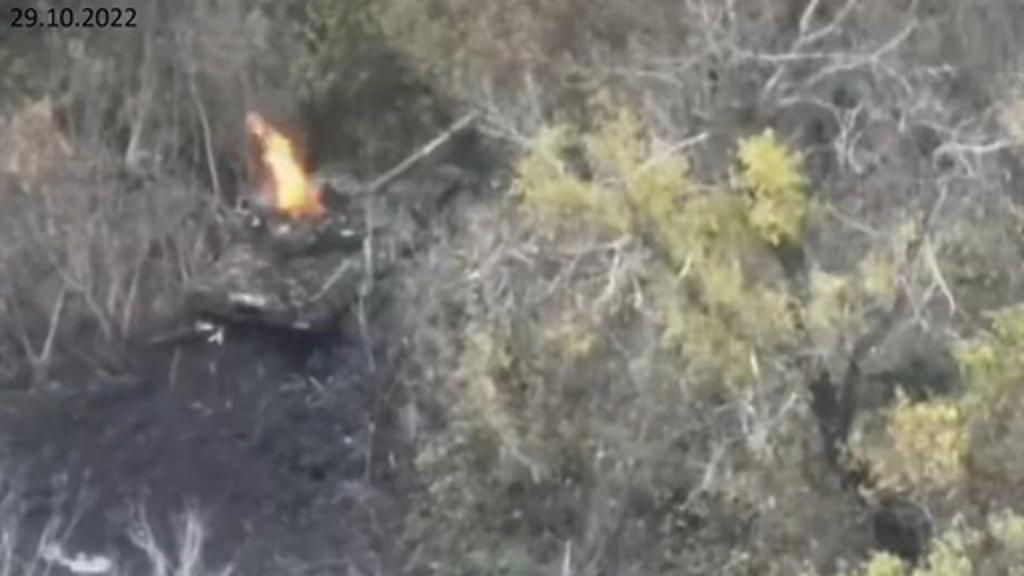TANK: (176, 94, 490, 340)
